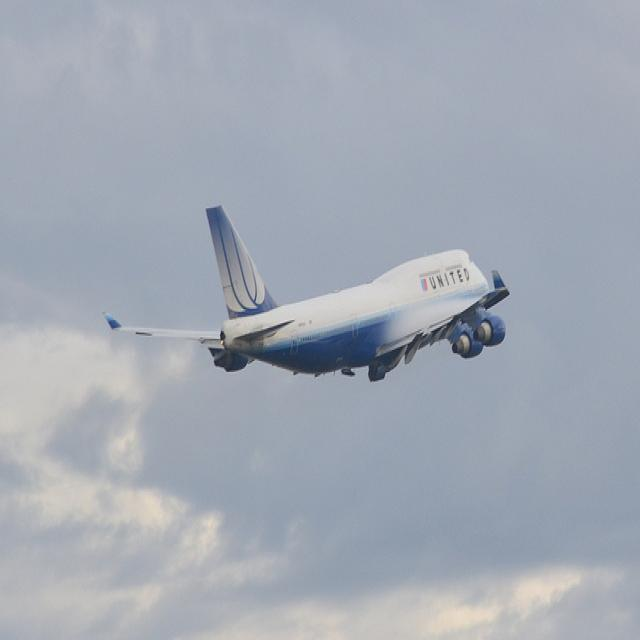airplane: (101, 203, 512, 384)
